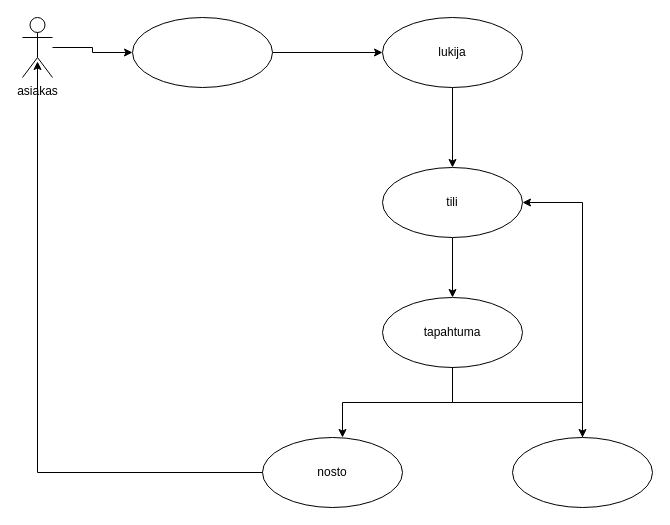
This 670x525 diagram has some shape labels left out. Each missing label, with the centre of its shape:
kortti: [202,52]
talletus: [582,472]
